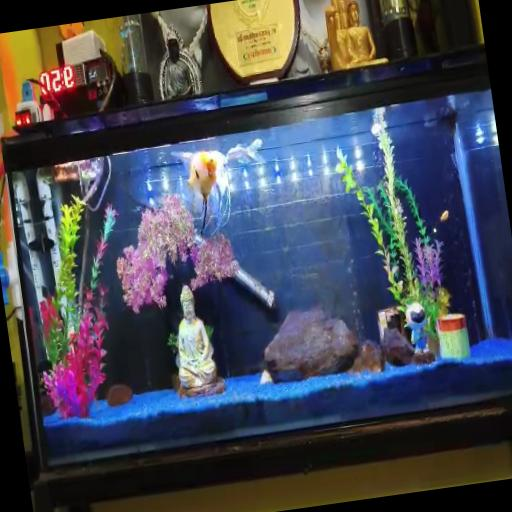Fish: (171, 140, 264, 233), (187, 151, 216, 235), (440, 210, 448, 223)
